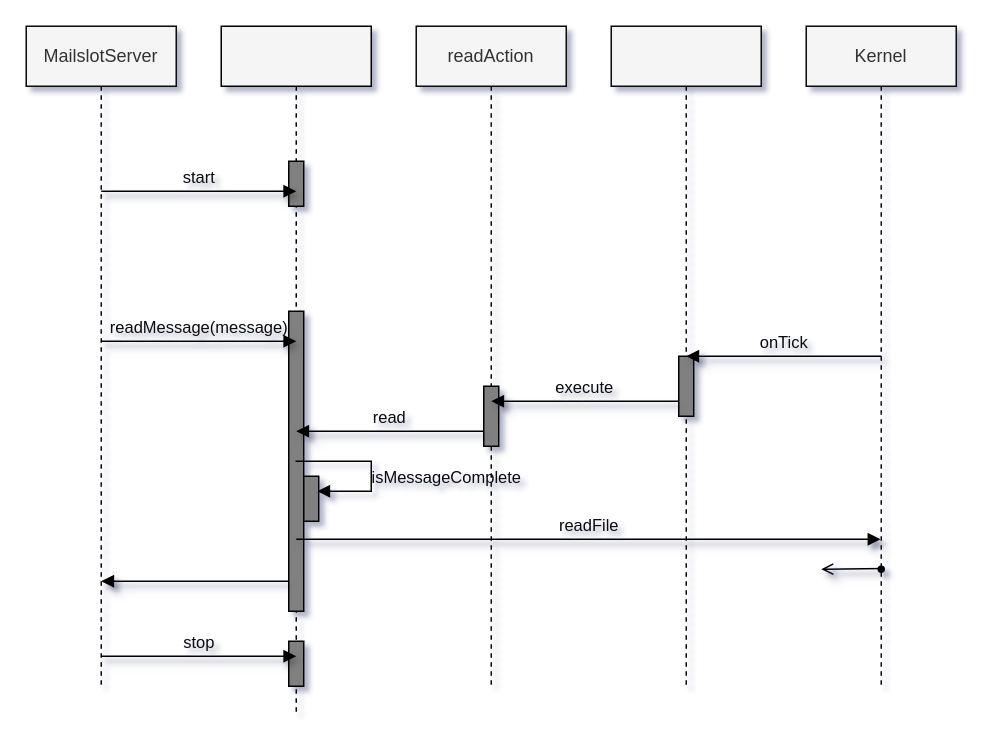
Image size: 992x752. Some labels were removed from this diagram. Here are the shapes that lost their labels. From the top down, the centre of each, then its label:
the point at 295,370: syncronicReader
the point at 685,355: Timer
